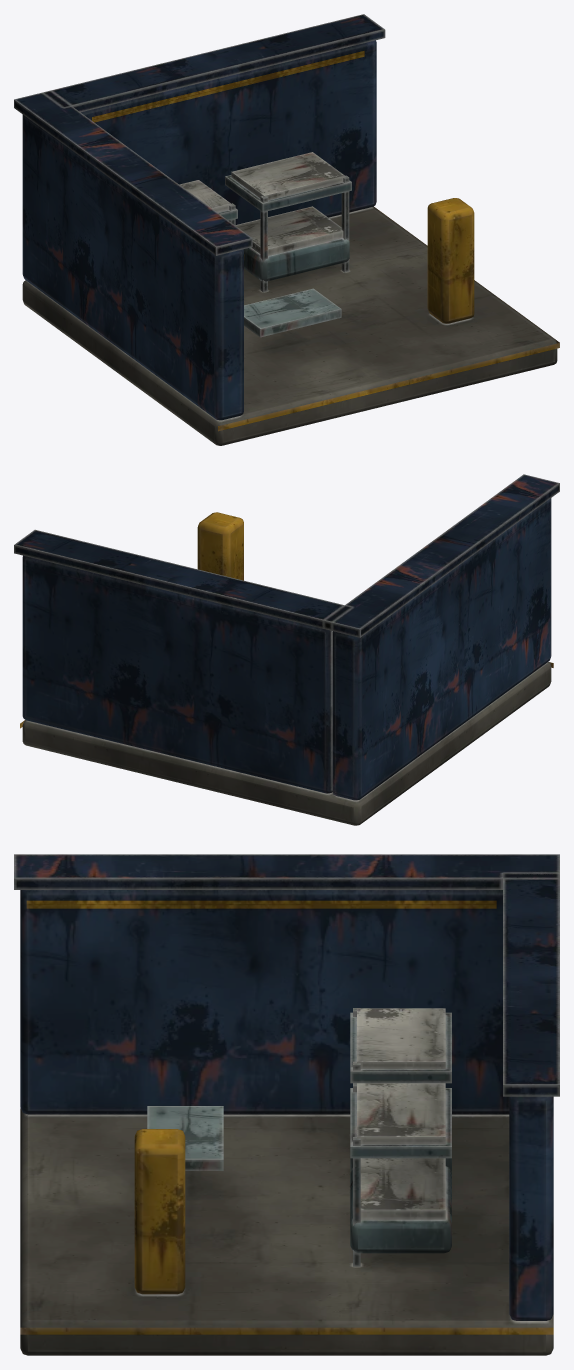
The model's file is habitat_t2.glb.
3 views of the same model, one above another, from view 1: azimuth 30°, elevation 25°; view 2: azimuth 150°, elevation 25°; view 3: azimuth 270°, elevation 25° (orthographic). The views are drawn at different scales.
Parts seen in each view (by area): view 1: te_habitat_t2; view 2: te_habitat_t2; view 3: te_habitat_t2.
Boxes of the visible parts, bbox=[...] form: te_habitat_t2: bbox=[14, 14, 559, 445]; te_habitat_t2: bbox=[14, 474, 559, 825]; te_habitat_t2: bbox=[14, 854, 559, 1355].
Size of the model in its own units: 0.86 by 0.48 by 0.86.
1 material, 1 textured.
